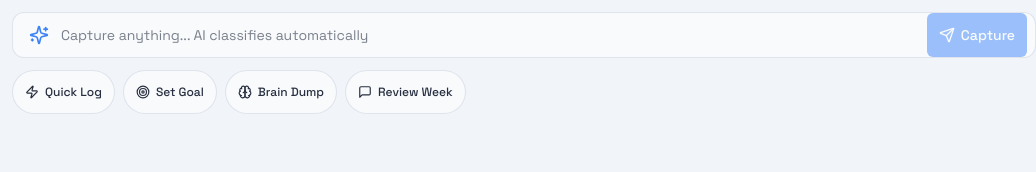
Scenario: SmartCapture › should enable submit button when input has text
The width and height of the screenshot is (1036, 172).
In the field with placeholder "Capture anything... AI classifies automatically": coordinates (488, 35) [49, 15, 927, 55], type "some task"
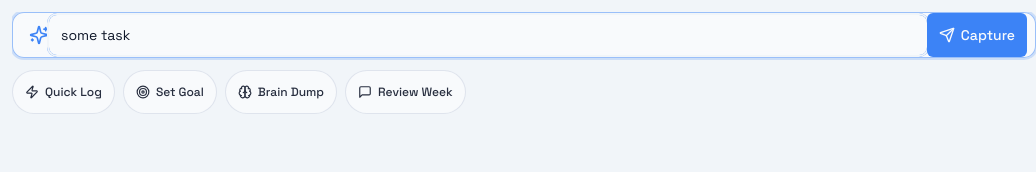
Now the button "Capture" is enabled, box [927, 13, 1027, 57]
